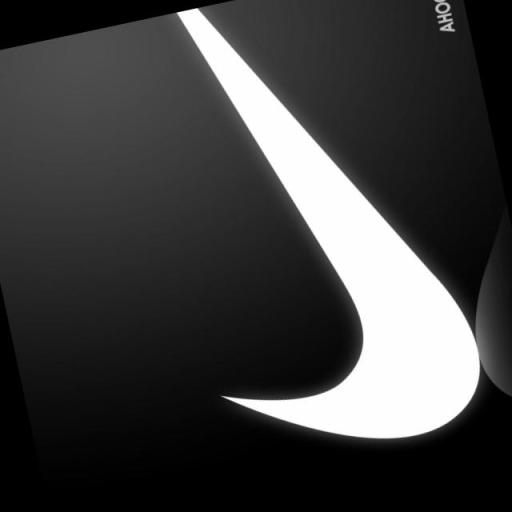Nike: (142, 0, 494, 473)
